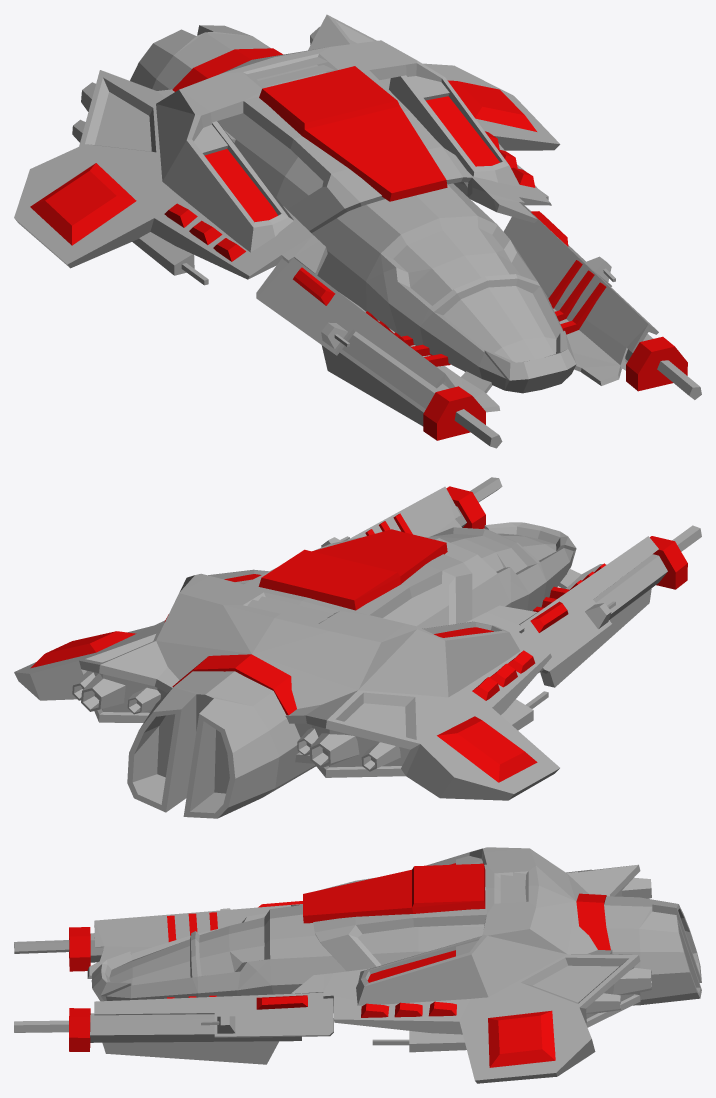
File: Zaiten2.fbx
3 views of the same model, one above another, from view 1: azimuth 30°, elevation 25°; view 2: azimuth 150°, elevation 25°; view 3: azimuth 270°, elevation 25° (orthographic). The views are drawn at different scales.
Visible parts, largest first — view 1: zaiten2_diffuse, zaiten2_color; view 2: zaiten2_diffuse, zaiten2_color; view 3: zaiten2_diffuse, zaiten2_color.
Part boxes in pixels (x1=…): zaiten2_diffuse: x1=14, y1=14, x2=701, y2=448; zaiten2_color: x1=30, y1=48, x2=687, y2=440; zaiten2_diffuse: x1=14, y1=477, x2=701, y2=818; zaiten2_color: x1=30, y1=486, x2=687, y2=782; zaiten2_diffuse: x1=14, y1=847, x2=701, y2=1083; zaiten2_color: x1=69, y1=863, x2=610, y2=1067.
Bounding box in the file's own units: 4.48 × 1.44 × 6.54.
